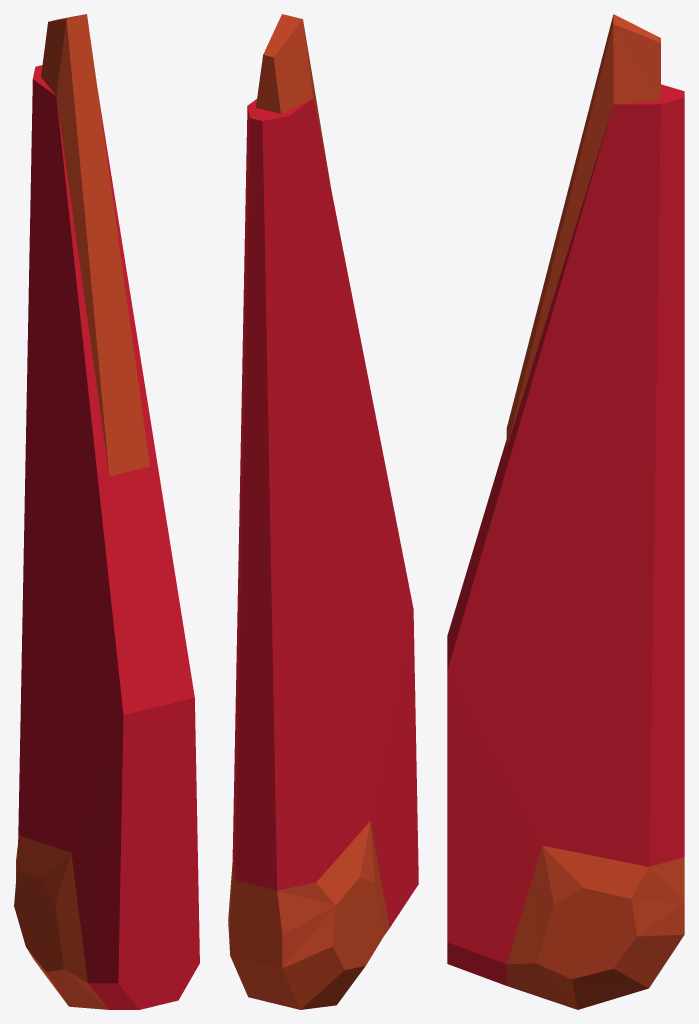
File: VoidArem2.FBX
The picture shows the model from 3 angles, left to right: view 1: azimuth 30°, elevation 25°; view 2: azimuth 150°, elevation 25°; view 3: azimuth 270°, elevation 25°; orthographic projection. The views are drawn at different scales.
Visible parts, largest first — view 1: VIFS001, VIFS002; view 2: VIFS001, VIFS002; view 3: VIFS001, VIFS002.
Part boxes in pixels (x1,y1,x2,y2): VIFS001: (18,65,199,1009); VIFS002: (14,14,149,1009); VIFS001: (232,98,418,927); VIFS002: (228,14,389,1009); VIFS001: (447,84,684,985); VIFS002: (506,14,684,1009).
Bounding box in the file's own units: 0.1 × 0.91 × 0.2.
